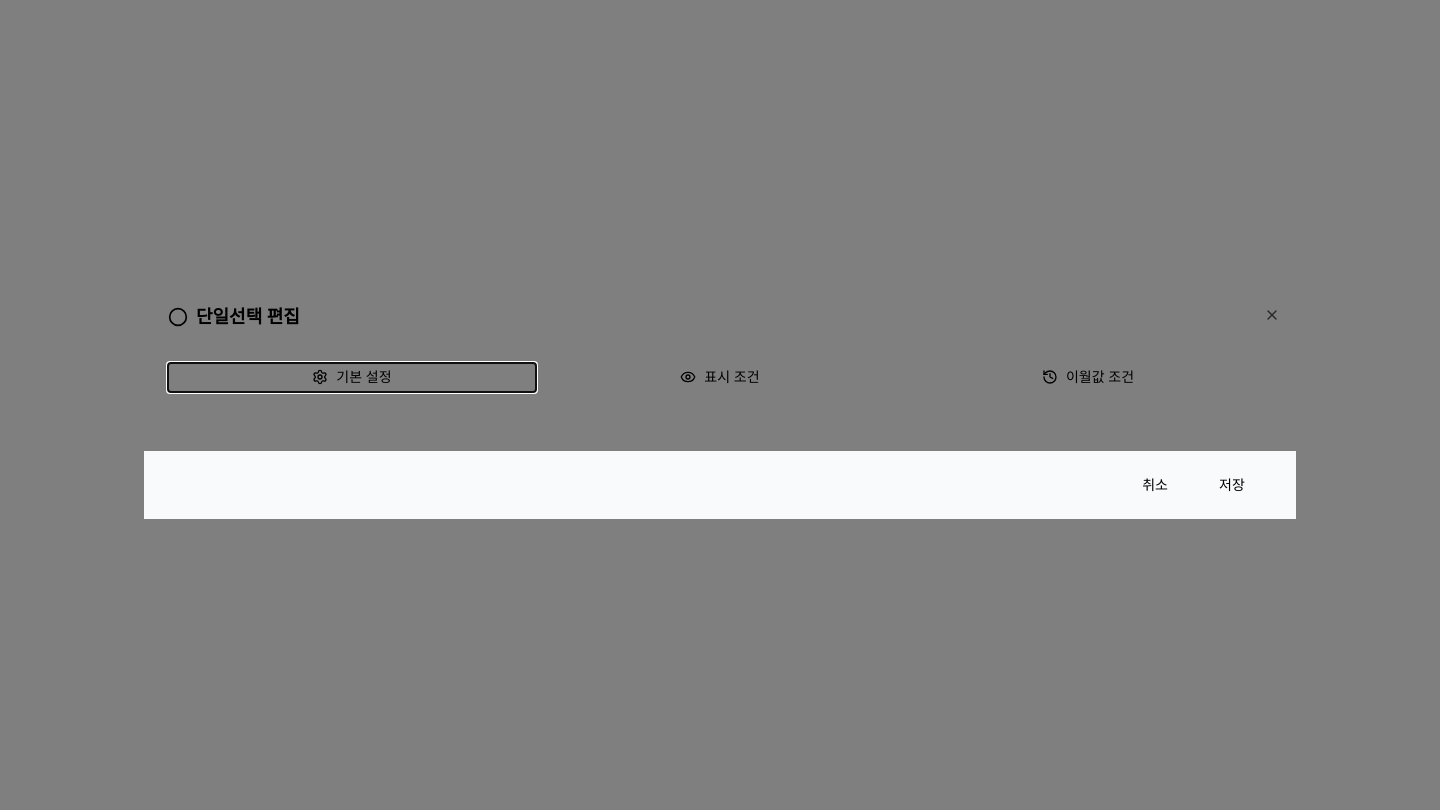
Scenario: QuestionEditModal 검증 에러 누수/데드락 › 검증 실패 후에도 저장 버튼은 눌려야 한다 (재검증 경로 확보)
Click the button "저장" at [1232, 485], box [1192,467,1272,503]
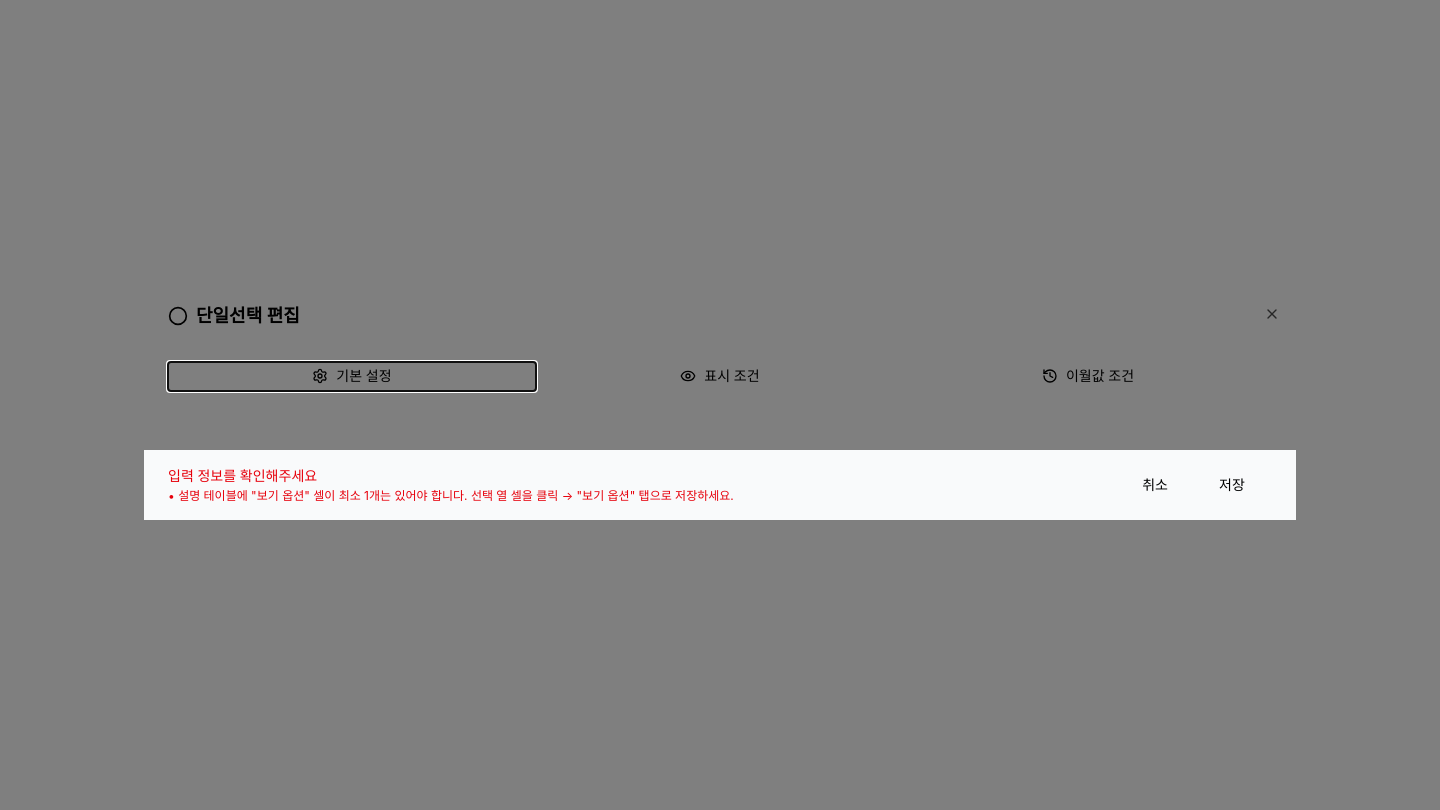
Expected: the text "입력 정보를 확인해주세요" is shown, [168,467,317,484]
